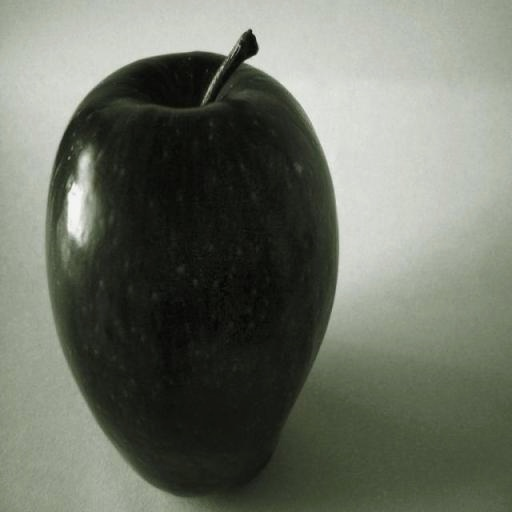fruit: (46, 32, 337, 494)
